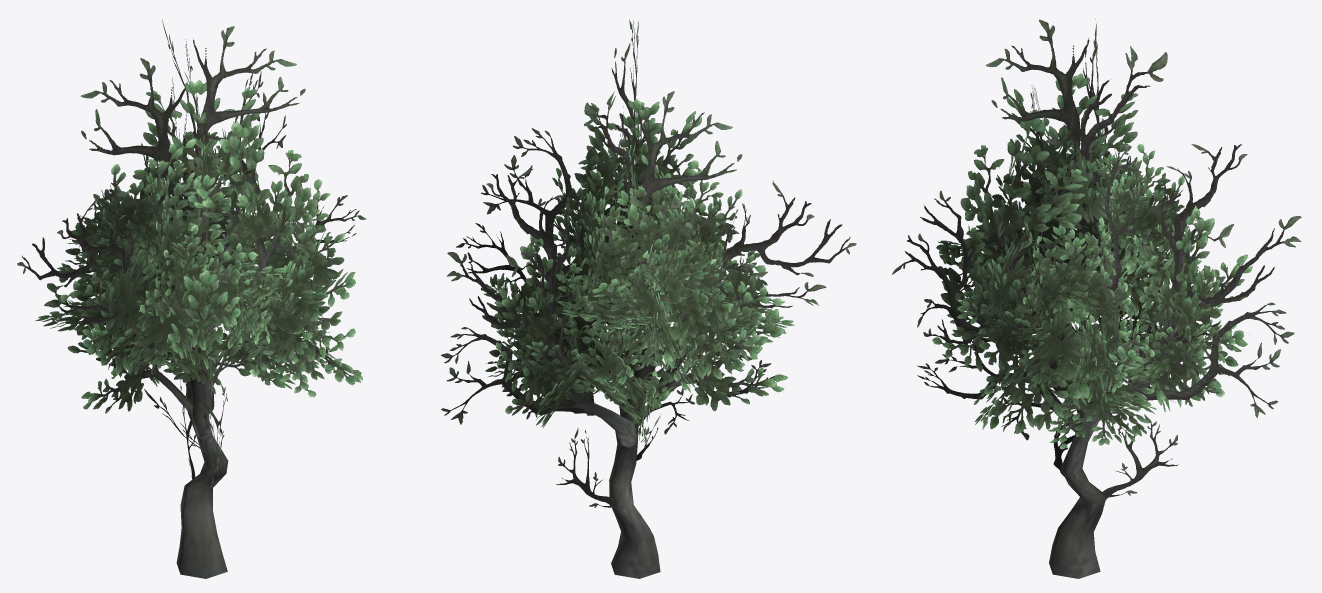
3 views of the same model, side by side, from view 1: azimuth 30°, elevation 25°; view 2: azimuth 150°, elevation 25°; view 3: azimuth 270°, elevation 25° (orthographic). The views are drawn at different scales.
Bounding box in the file's own units: 11.31 × 15.49 × 10.53.
1 material, 1 textured.
